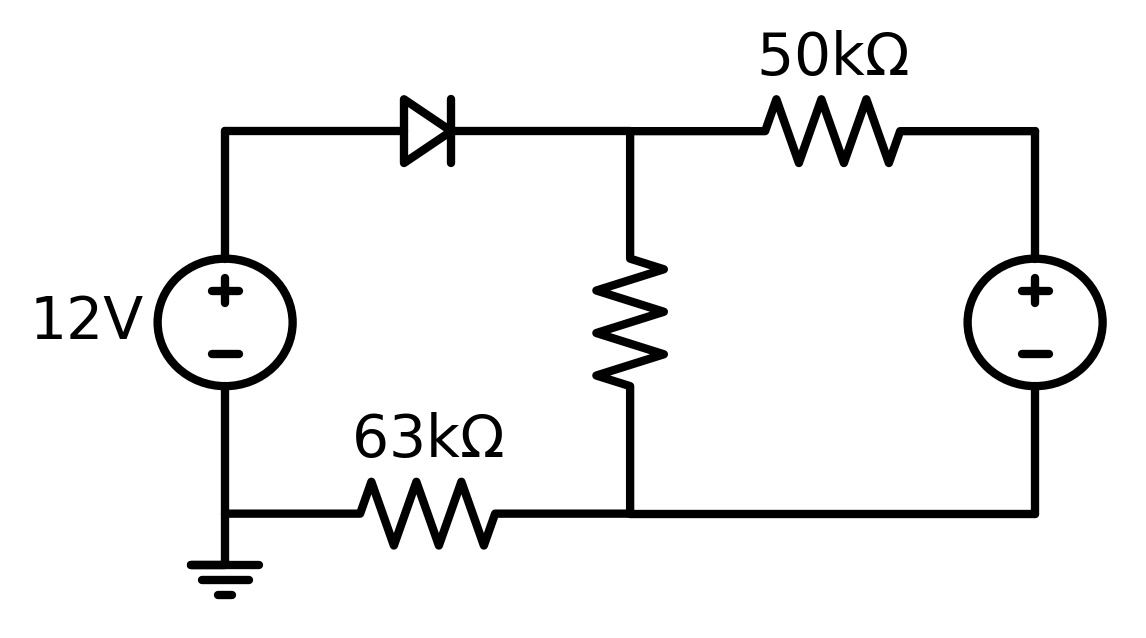diode: (384, 79, 475, 184)
ground: (177, 552, 268, 606)
resistor: (559, 241, 683, 397), (746, 82, 904, 179), (342, 472, 506, 563)
sourcedc: (142, 248, 306, 397), (954, 254, 1113, 396)
